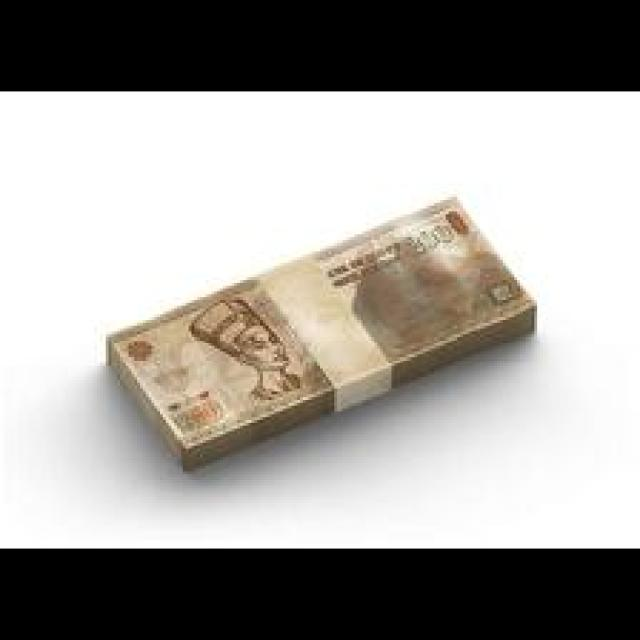banknote: (103, 192, 537, 472)
